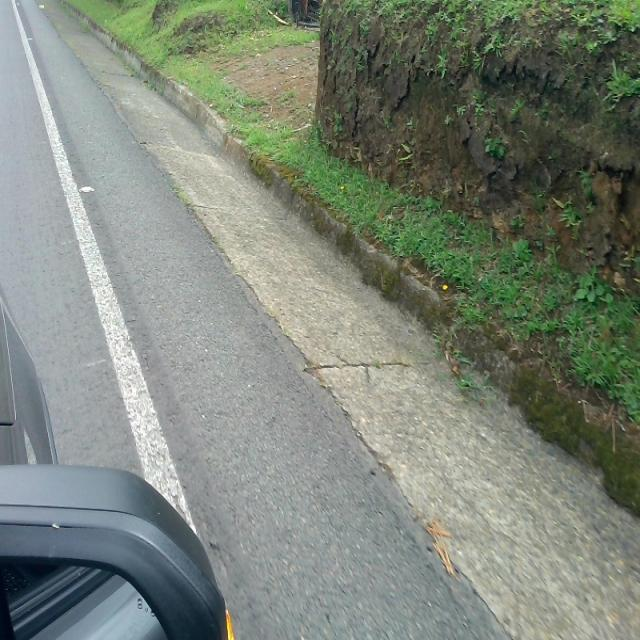DITCH: (24, 2, 638, 637), (48, 16, 638, 638)
